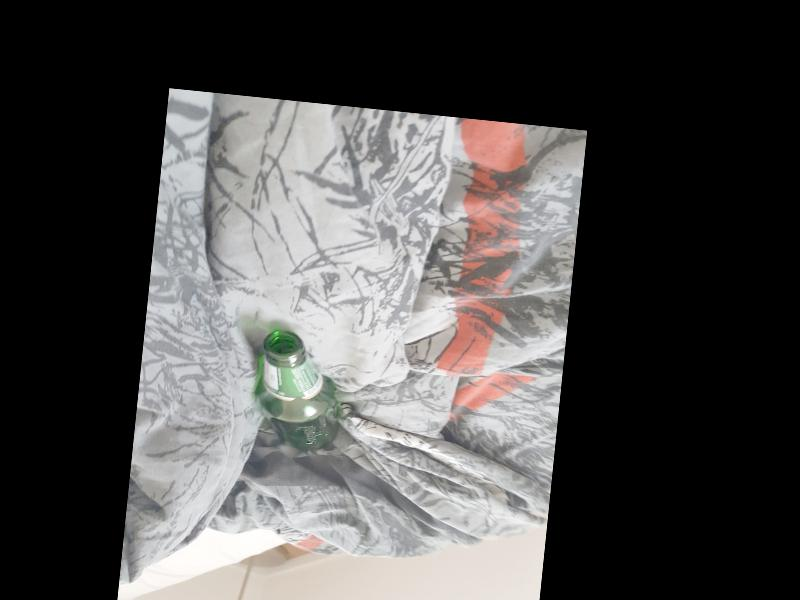Beer: (249, 327, 347, 454)
